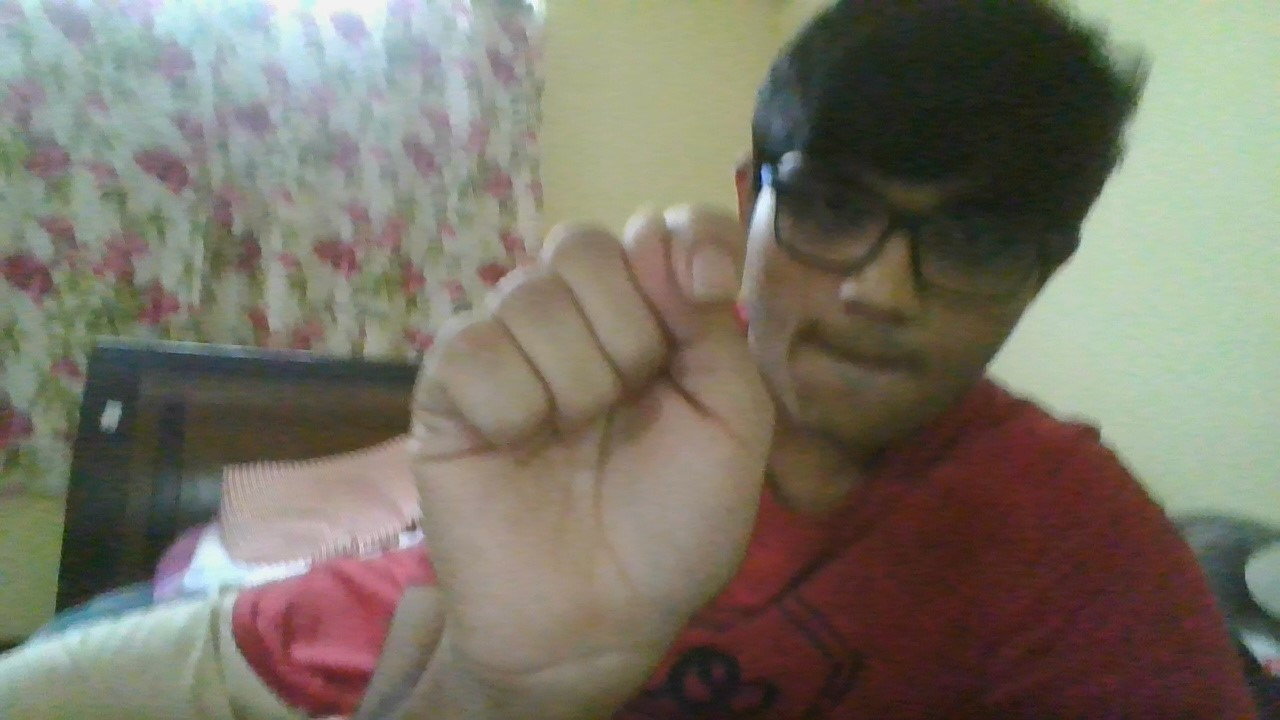t: (400, 189, 782, 681)
